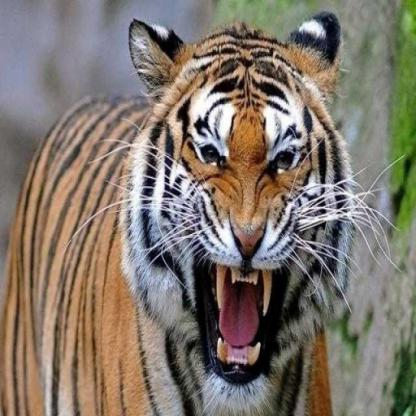Tiger: (1, 8, 361, 415)
